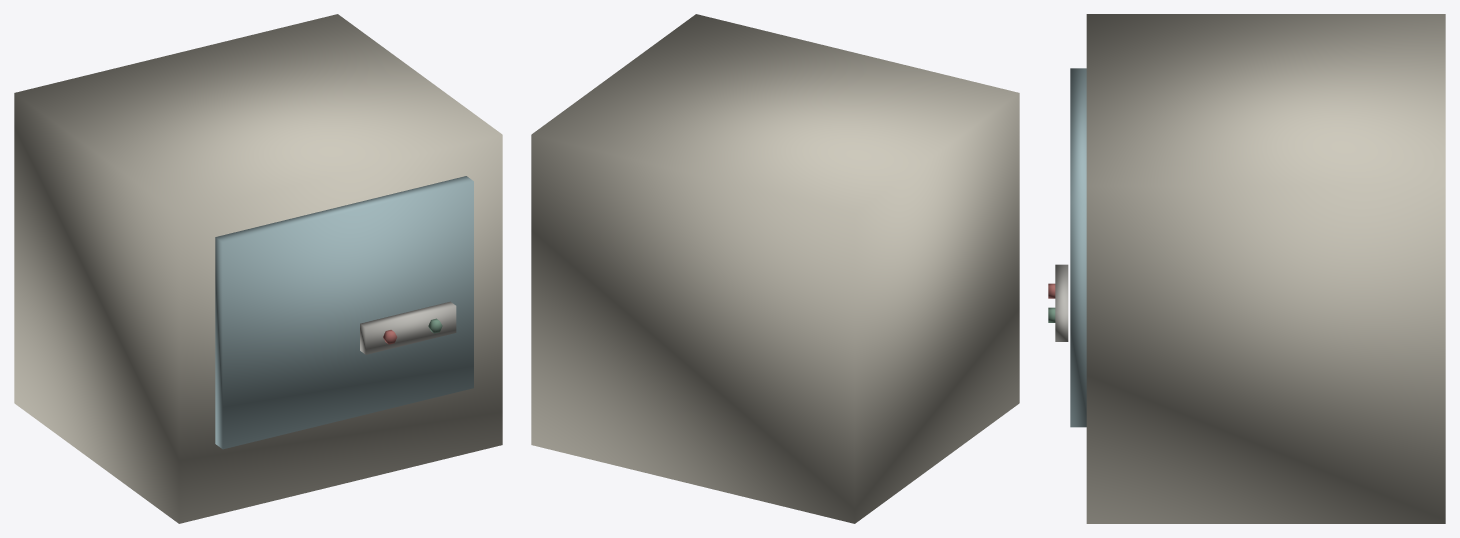
Rendered from crt_monitor__compact.glb.
The picture shows the model from 3 angles, left to right: view 1: azimuth 30°, elevation 25°; view 2: azimuth 150°, elevation 25°; view 3: azimuth 270°, elevation 25°; orthographic projection. The views are drawn at different scales.
Visible parts, largest first — view 1: world; view 2: world; view 3: world.
Part boxes in pixels (x1,y1,x2,y2): world: (14, 14, 502, 523); world: (531, 14, 1019, 523); world: (1048, 14, 1445, 523).
Bounding box in the file's own units: 0.4872 × 0.4836 × 0.476.
